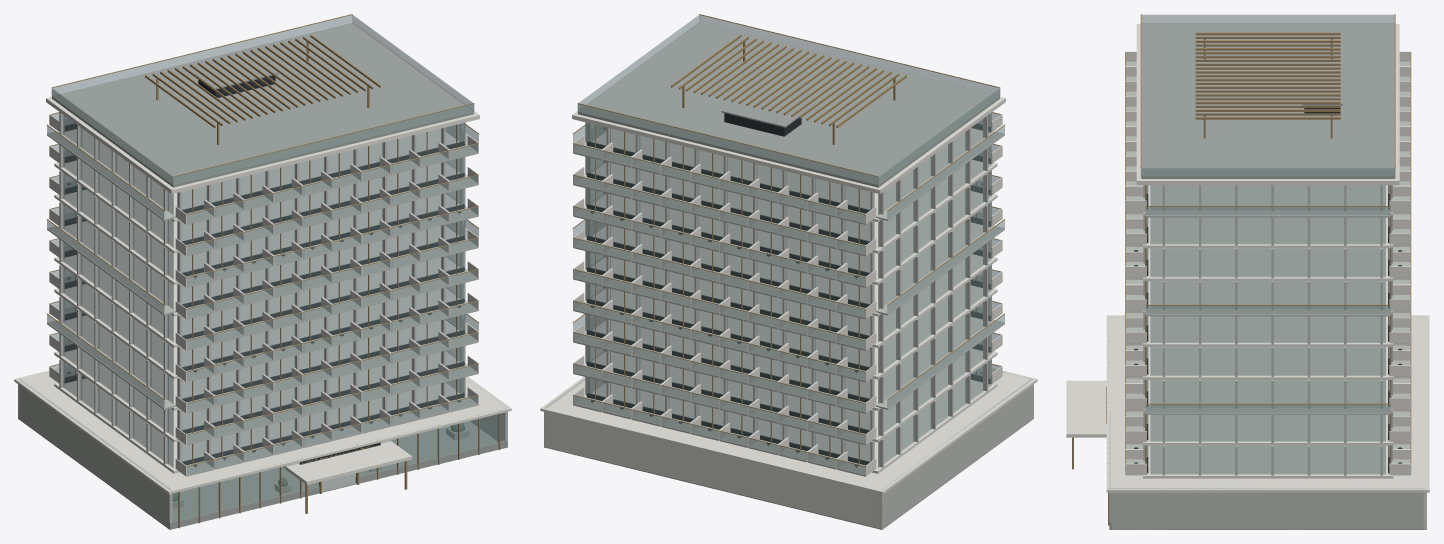
3 views of the same model, side by side, from view 1: azimuth 30°, elevation 25°; view 2: azimuth 150°, elevation 25°; view 3: azimuth 270°, elevation 25° (orthographic). The views are drawn at different scales.
Visible parts, largest first — view 1: Meridian Hotel: glass, Meridian Hotel: ivory, Meridian Hotel: concrete, Meridian Hotel: stone, Meridian Hotel: bronze, Meridian Hotel: dark; view 2: Meridian Hotel: glass, Meridian Hotel: ivory, Meridian Hotel: concrete, Meridian Hotel: stone, Meridian Hotel: bronze, Meridian Hotel: dark; view 3: Meridian Hotel: ivory, Meridian Hotel: glass, Meridian Hotel: stone, Meridian Hotel: concrete, Meridian Hotel: bronze, Meridian Hotel: dark.
Part boxes in pixels (x1,y1,x2,y2): Meridian Hotel: glass: (47, 15, 505, 521); Meridian Hotel: ivory: (14, 23, 511, 494); Meridian Hotel: concrete: (18, 112, 507, 527); Meridian Hotel: stone: (18, 23, 507, 529); Meridian Hotel: bronze: (46, 14, 500, 528); Meridian Hotel: dark: (64, 75, 464, 466); Meridian Hotel: glass: (573, 15, 1029, 474); Meridian Hotel: ivory: (540, 23, 1037, 528); Meridian Hotel: concrete: (544, 112, 1033, 528); Meridian Hotel: stone: (544, 23, 1033, 529); Meridian Hotel: bronze: (572, 14, 1005, 467); Meridian Hotel: dark: (587, 113, 990, 466); Meridian Hotel: ivory: (1066, 24, 1429, 529); Meridian Hotel: glass: (1110, 14, 1411, 488); Meridian Hotel: stone: (1109, 23, 1426, 529); Meridian Hotel: concrete: (1109, 61, 1426, 529); Meridian Hotel: bronze: (1072, 14, 1411, 525); Meridian Hotel: dark: (1134, 108, 1402, 473).
Bounding box in the file's own units: 45.6 × 44.83 × 40.05.
